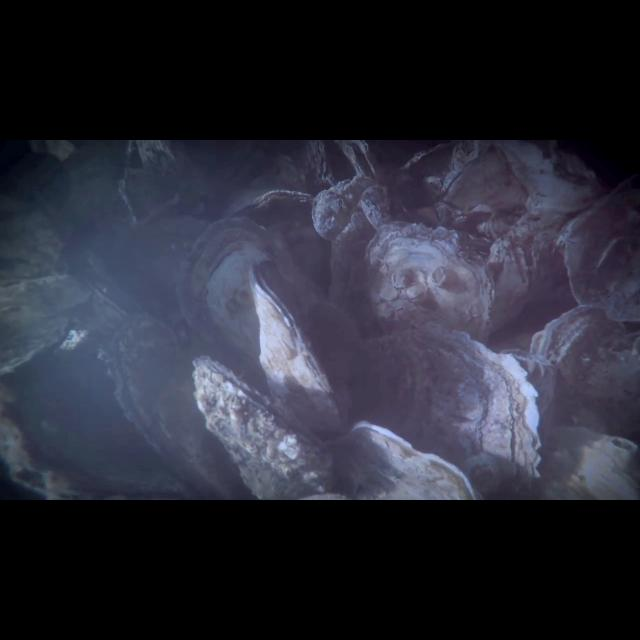Oyster-Closed: (336, 316, 550, 495), (94, 309, 240, 497), (168, 214, 329, 366), (191, 349, 340, 499), (361, 214, 505, 345), (335, 417, 481, 499), (228, 186, 329, 293), (535, 297, 610, 401), (499, 348, 555, 415)
Oyster-Open: (243, 254, 347, 438), (333, 143, 384, 178)
